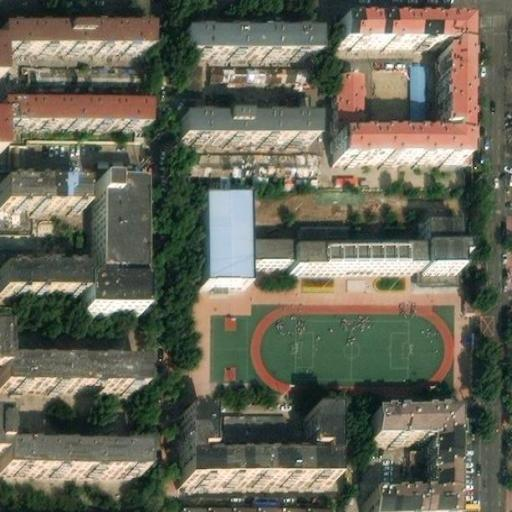building: (332, 17, 462, 160), (183, 412, 337, 484), (379, 409, 465, 512), (101, 174, 147, 272), (180, 28, 315, 61), (199, 195, 247, 286), (181, 114, 315, 141), (0, 258, 89, 291), (0, 175, 88, 208), (289, 247, 422, 266), (207, 67, 309, 90), (89, 271, 148, 305), (422, 223, 464, 266), (333, 74, 364, 132), (409, 57, 427, 111), (246, 242, 289, 264)
